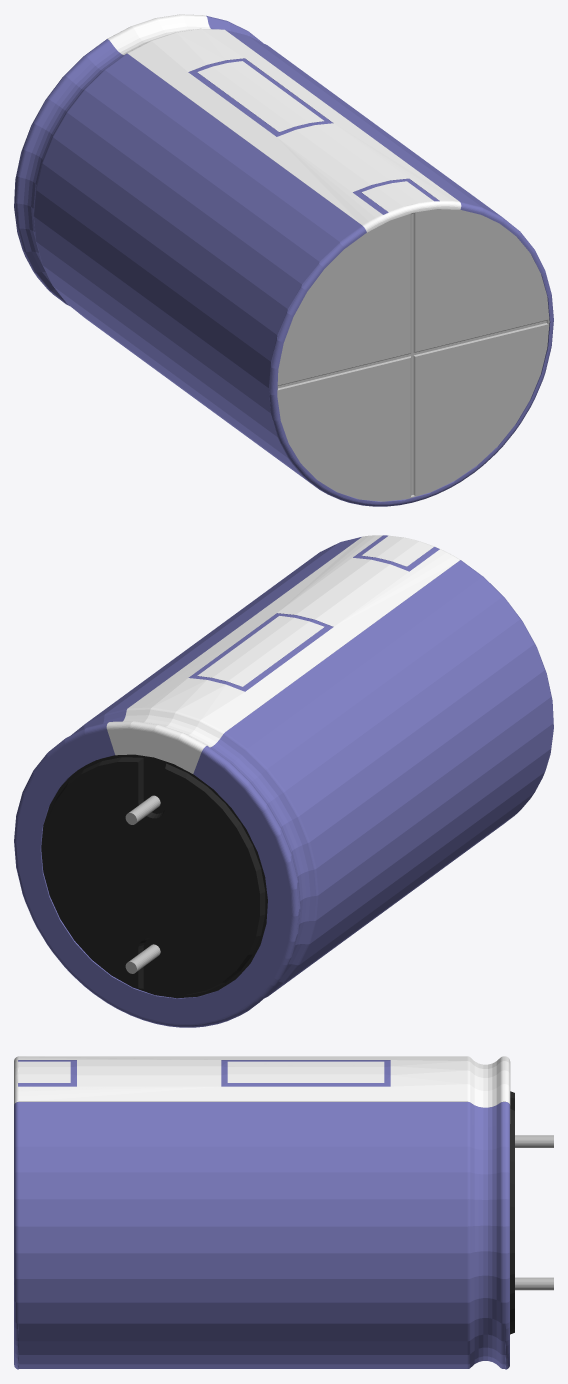
File: cap_el_d25_h40_pitch12.5_w1.obj
3 renders of one model, top to bottom at view 1: azimuth 30°, elevation 25°; view 2: azimuth 150°, elevation 25°; view 3: azimuth 270°, elevation 25°, orthographic. The views are drawn at different scales.
Parts seen in each view (by area): view 1: cap_el_d25_h40_pitch12.5_w1; view 2: cap_el_d25_h40_pitch12.5_w1; view 3: cap_el_d25_h40_pitch12.5_w1.
Part boxes in pixels (bbox=[...]): cap_el_d25_h40_pitch12.5_w1: bbox=[14, 14, 553, 506]; cap_el_d25_h40_pitch12.5_w1: bbox=[14, 535, 553, 1027]; cap_el_d25_h40_pitch12.5_w1: bbox=[14, 1056, 553, 1369].
Bounding box in the file's own units: 0.0105 × 0.0105 × 0.0181.
